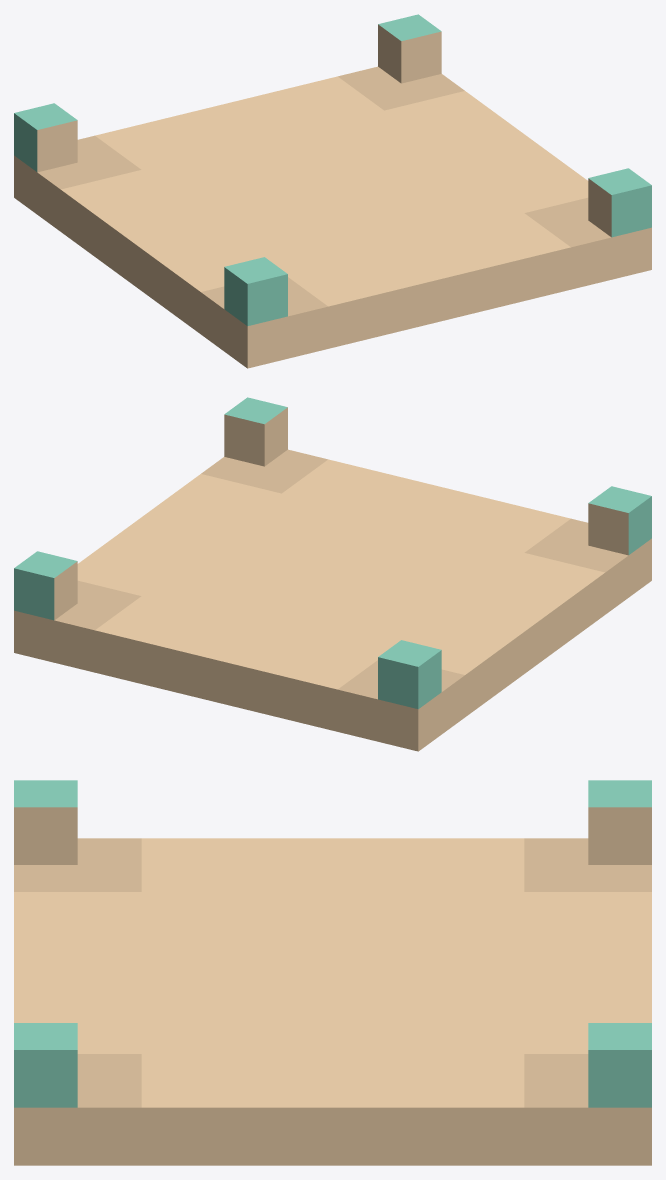
File: Way_X-Cross.fbx
3 views of the same model, one above another, from view 1: azimuth 30°, elevation 25°; view 2: azimuth 150°, elevation 25°; view 3: azimuth 270°, elevation 25° (orthographic). The views are drawn at different scales.
Visible parts, largest first — view 1: Way_X-Cross; view 2: Way_X-Cross; view 3: Way_X-Cross.
Boxes of the visible parts, bbox=[...] form: Way_X-Cross: bbox=[14, 14, 651, 368]; Way_X-Cross: bbox=[14, 397, 651, 751]; Way_X-Cross: bbox=[14, 780, 651, 1165].
Size of the model in its own units: 1 by 0.2 by 1.
